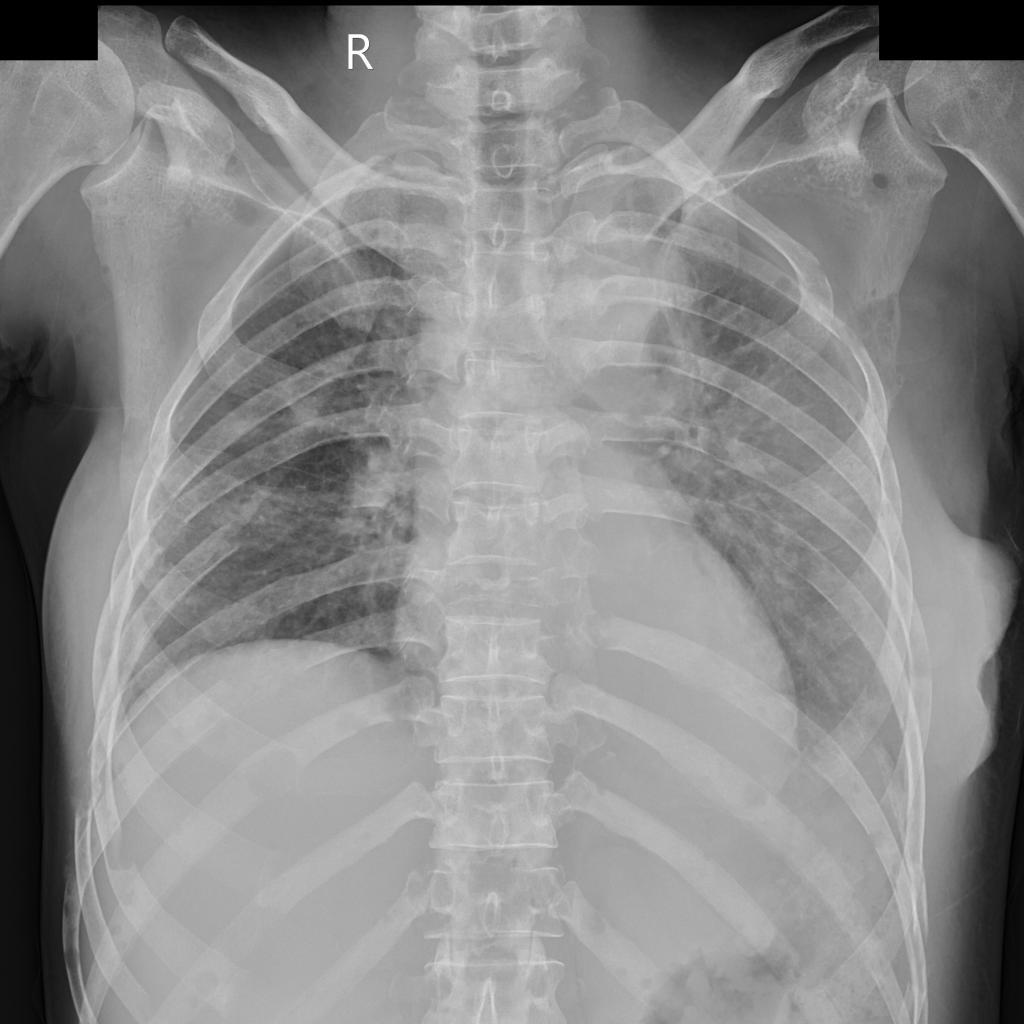Nodule: (523, 202, 690, 401)
